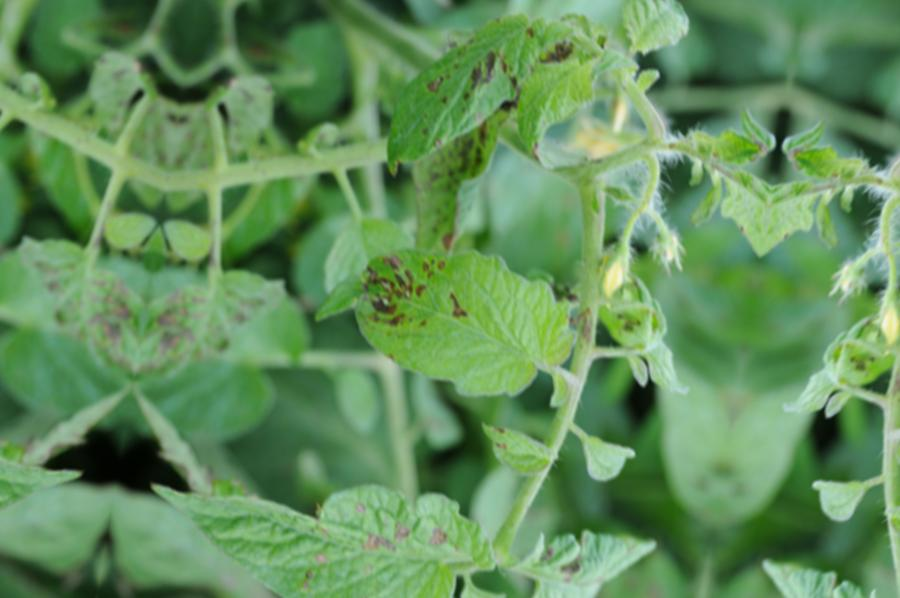Tomato leaf bacterial spot: (116, 435, 493, 598), (305, 235, 585, 415), (364, 0, 590, 170)
